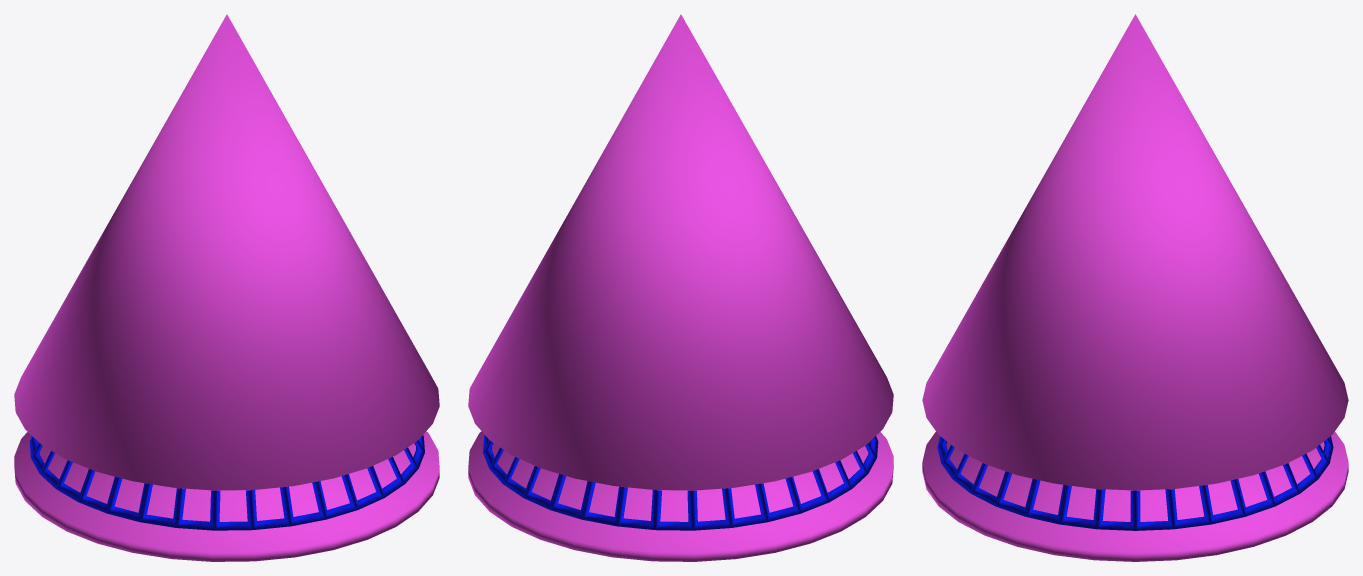
The picture shows the model from 3 angles, left to right: view 1: azimuth 30°, elevation 25°; view 2: azimuth 150°, elevation 25°; view 3: azimuth 270°, elevation 25°; orthographic projection.
Parts seen in each view (by area): view 1: Cone.002, Cone.003, Cone.001; view 2: Cone.002, Cone.003, Cone.001; view 3: Cone.002, Cone.003, Cone.001.
Part boxes in pixels (x1=…): Cone.002: x1=14, y1=14, x2=439, y2=490; Cone.003: x1=14, y1=431, x2=439, y2=561; Cone.001: x1=29, y1=435, x2=424, y2=530; Cone.002: x1=468, y1=14, x2=893, y2=490; Cone.003: x1=468, y1=431, x2=893, y2=561; Cone.001: x1=483, y1=435, x2=878, y2=530; Cone.002: x1=922, y1=14, x2=1348, y2=490; Cone.003: x1=922, y1=431, x2=1348, y2=561; Cone.001: x1=937, y1=436, x2=1333, y2=530.
Size of the model in its own units: 430 by 510 by 430.
